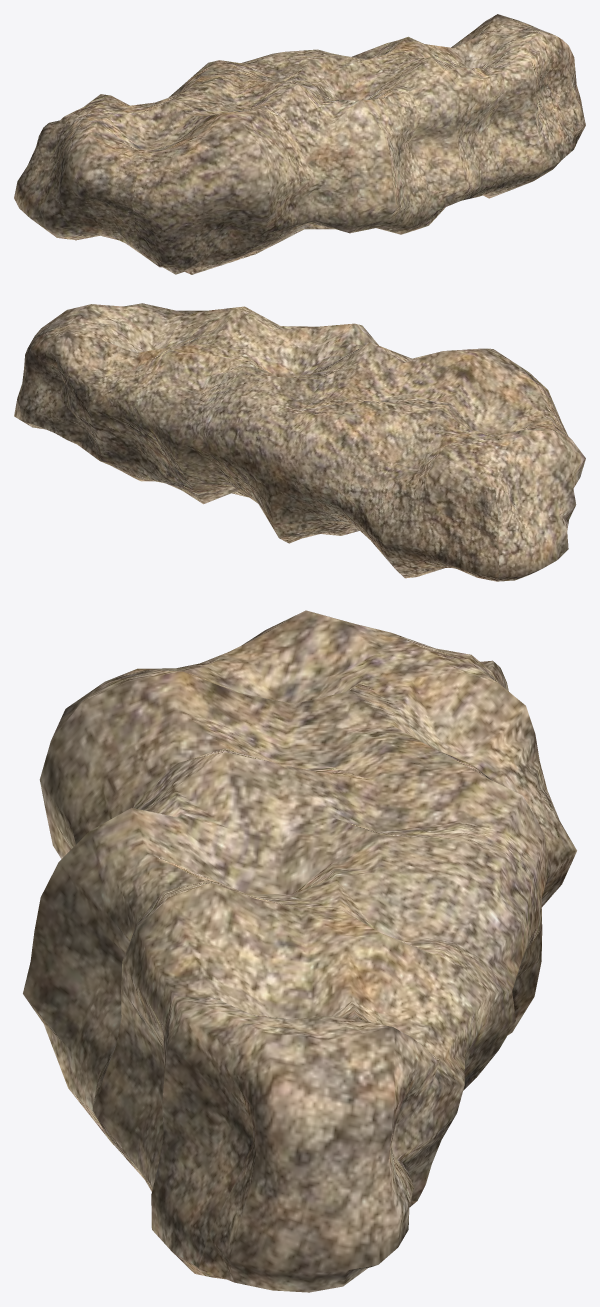
File: Stone03_v01.glb
3 renders of one model, top to bottom at view 1: azimuth 30°, elevation 25°; view 2: azimuth 150°, elevation 25°; view 3: azimuth 270°, elevation 25°, orthographic. The views are drawn at different scales.
Parts seen in each view (by area): view 1: SM_Stone03; view 2: SM_Stone03; view 3: SM_Stone03.
Boxes of the visible parts, x1,y1,x2,y2 form: SM_Stone03: (14,14,585,274); SM_Stone03: (14,303,585,581); SM_Stone03: (23,610,576,1292).
Size of the model in its own units: 2.75 by 0.825 by 1.26.
Materials: 1 (1 with a texture image).
